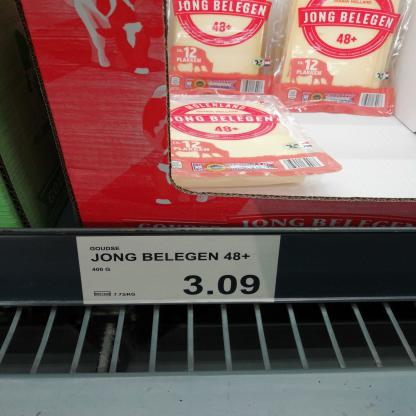prtg: (77, 236, 282, 305)
